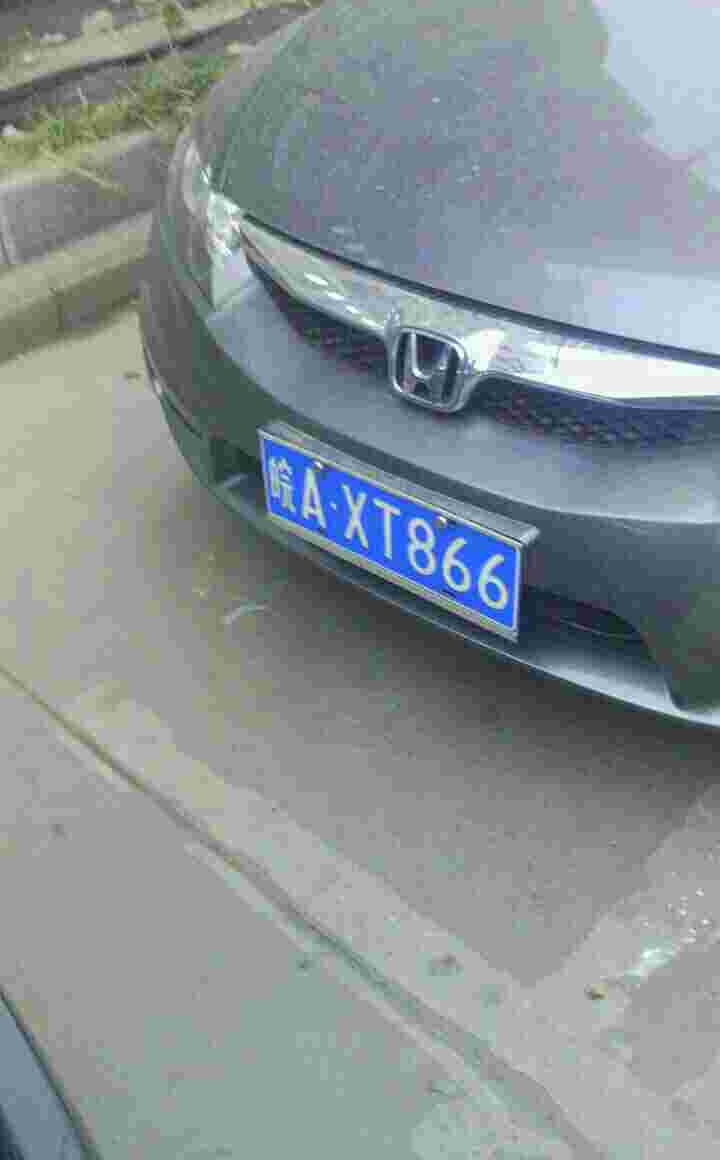car_blue: (250, 420, 527, 648)
